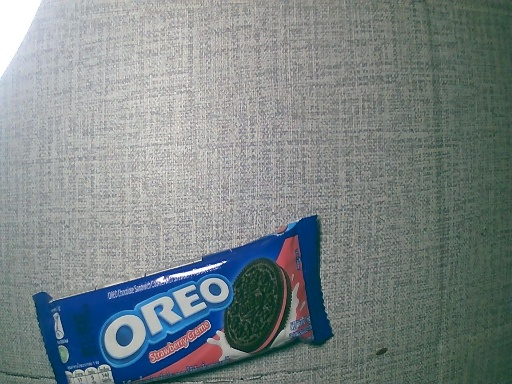plastic: (31, 213, 337, 384)
